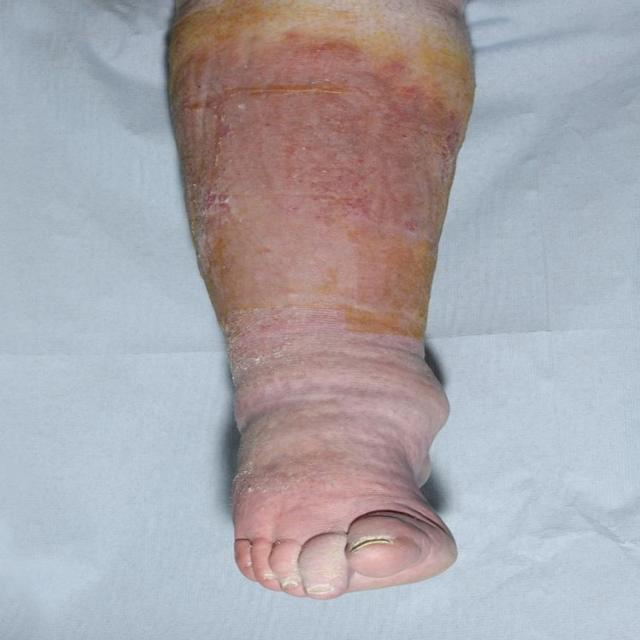wound: (165, 1, 478, 346)
